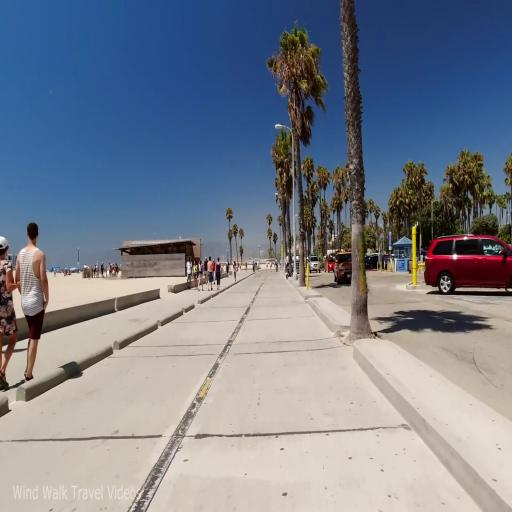Street_Light: (274, 118, 300, 284)
